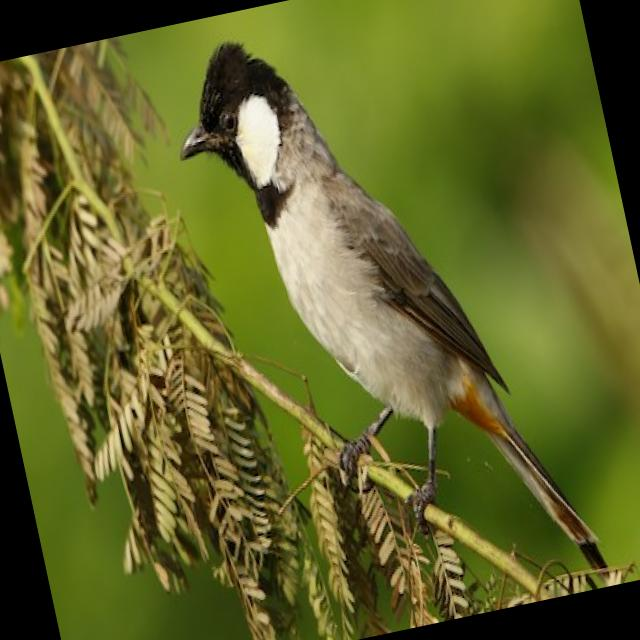bird: (152, 0, 621, 640)
